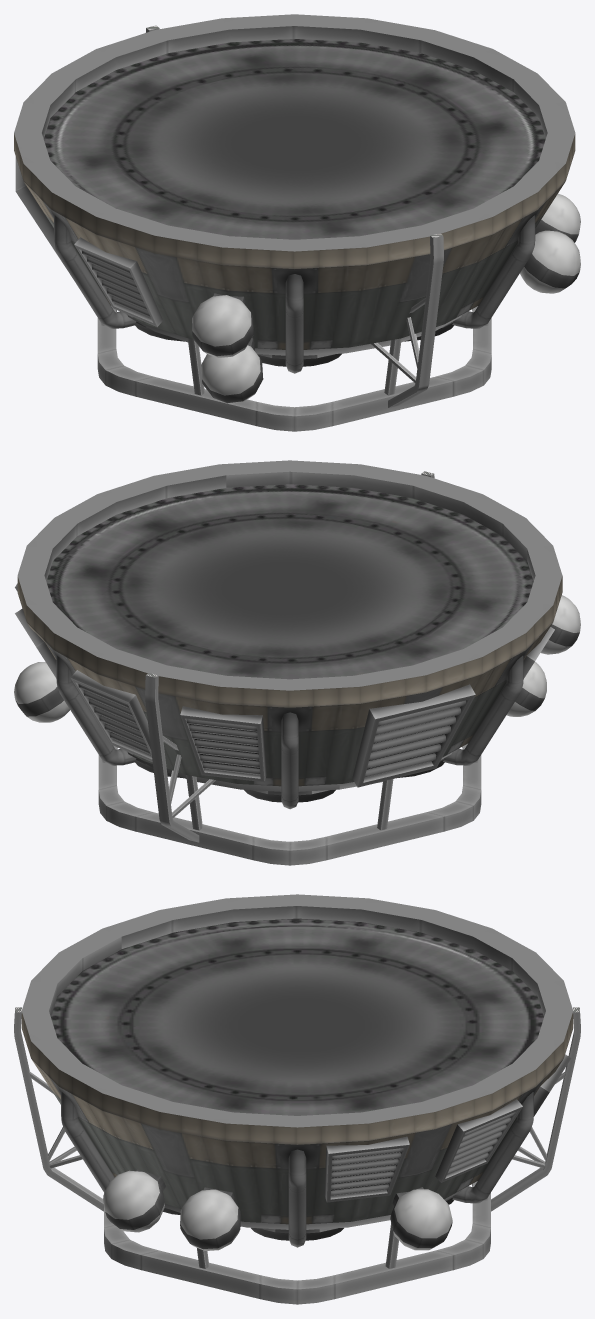
Rendered from Saturn_S4_EngineMount.dae.
The picture shows the model from 3 angles, top to bottom: view 1: azimuth 30°, elevation 25°; view 2: azimuth 150°, elevation 25°; view 3: azimuth 270°, elevation 25°; orthographic projection. The views are drawn at different scales.
Visible parts, largest first — view 1: SIV_EngineMount2, polySurface20; view 2: SIV_EngineMount2, polySurface20; view 3: SIV_EngineMount2, polySurface20.
Boxes of the visible parts, x1,y1,x2,y2 form: SIV_EngineMount2: (14,14,580,431); polySurface20: (43,39,545,239); SIV_EngineMount2: (14,460,580,865); polySurface20: (46,484,533,679); SIV_EngineMount2: (14,894,580,1304); polySurface20: (51,918,543,1115).
Bounding box in the file's own units: 2.95 × 1.2 × 3.01.
